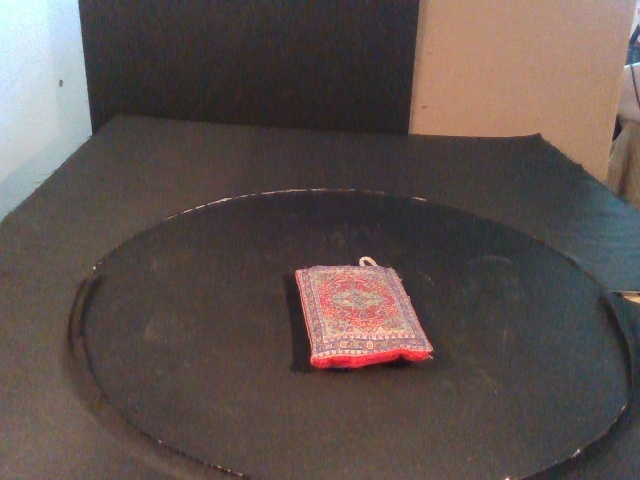pencil_case: (294, 264, 436, 370)
